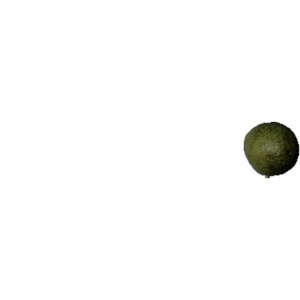abacate: (243, 120, 298, 177)
